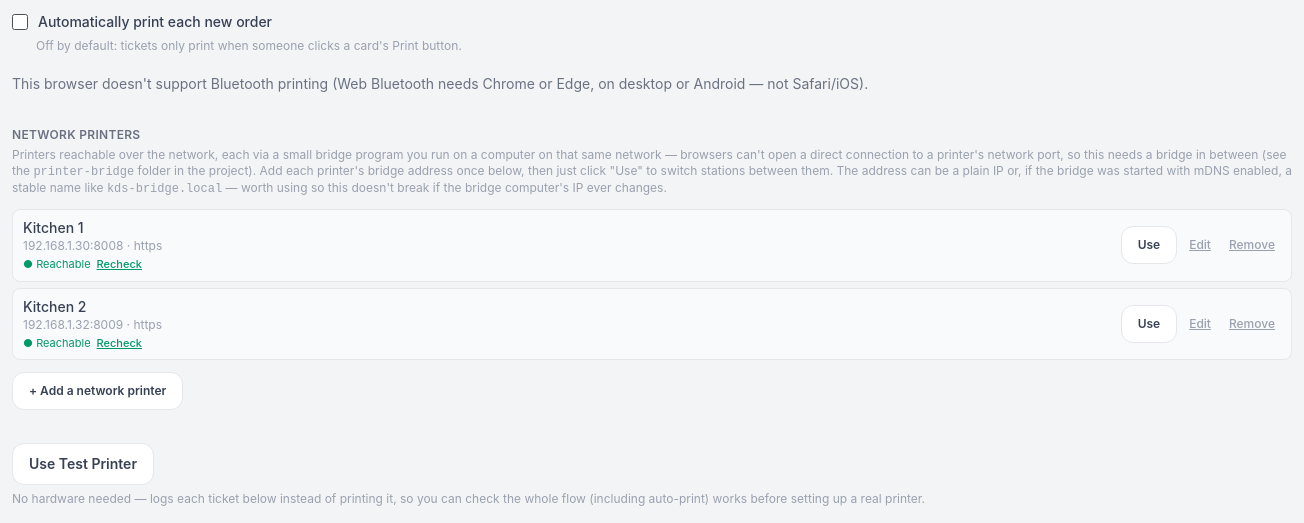
Test: PrinterConfig › Network Printers › lets a station switch between two saved printers
Click the button "Use" in the row of "Kitchen 2". click: (1149, 324)
box: [1121, 305, 1177, 343]
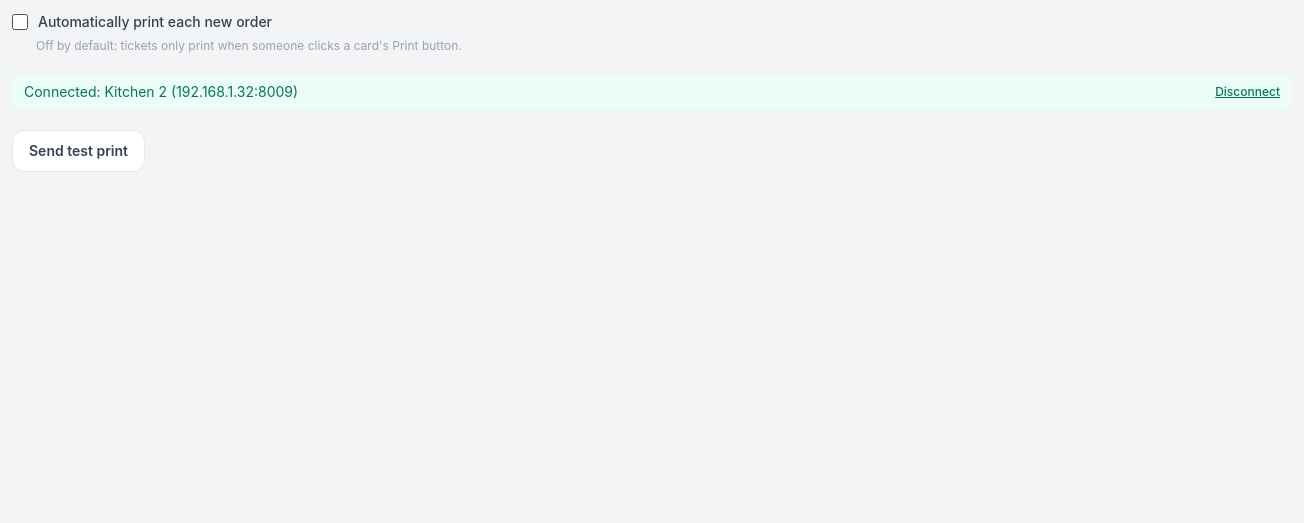
Now the text "Connected: Kitchen 2 (192.168.1.32:8009)" is shown, box [24, 82, 298, 102]
